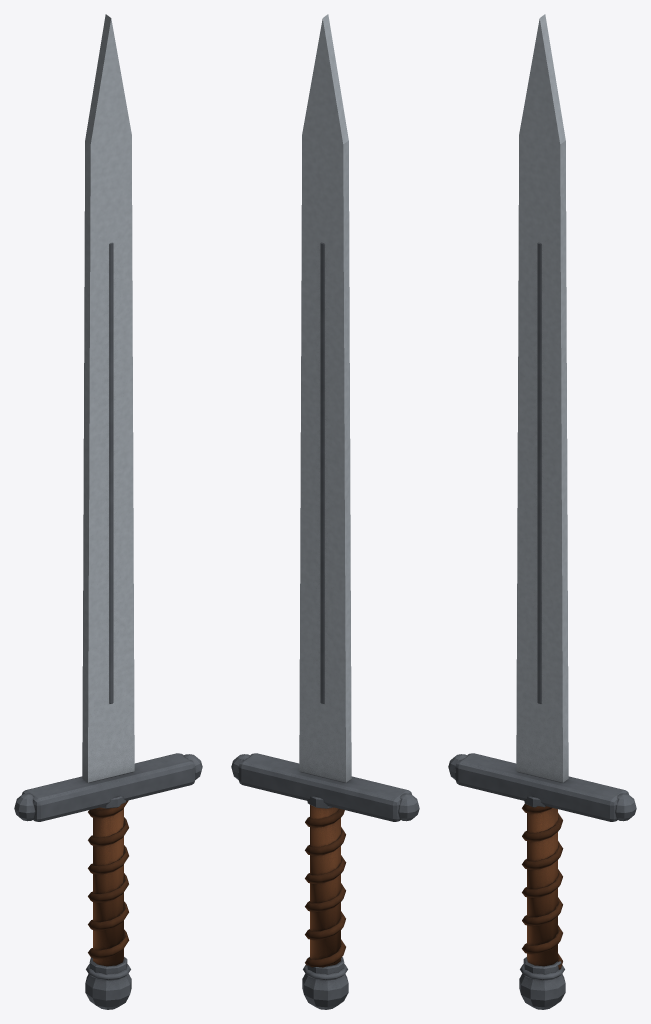
Rendered from 01_plains_sword.fbx.
3 views of the same model, side by side, from view 1: azimuth 30°, elevation 25°; view 2: azimuth 150°, elevation 25°; view 3: azimuth 330°, elevation 25° (orthographic).
Parts seen in each view (by area): view 1: Weapon; view 2: Weapon; view 3: Weapon.
Boxes of the visible parts, x1,y1,x2,y2 form: Weapon: [14, 14, 202, 1009]; Weapon: [231, 14, 419, 1009]; Weapon: [448, 14, 636, 1009].
Bounding box in the file's own units: 24.49 × 126 × 5.43.
1 material, 1 textured.
